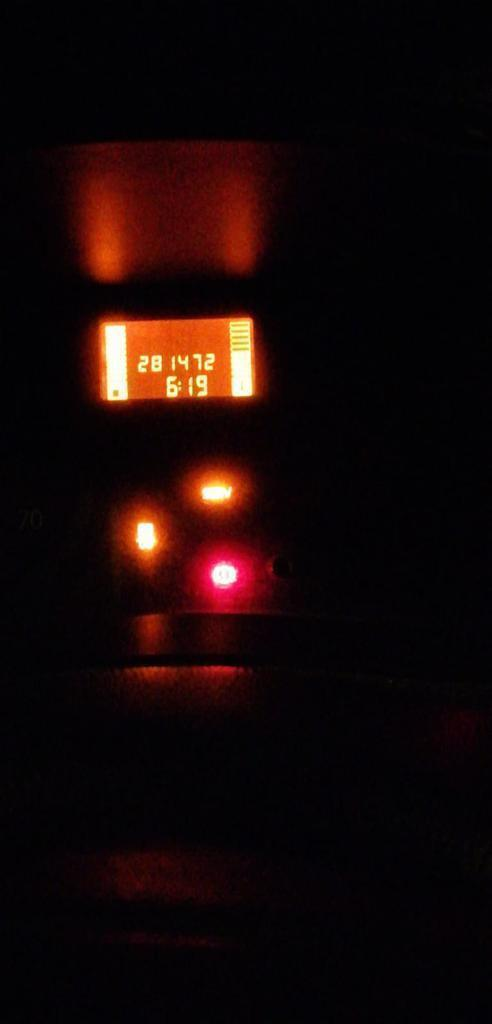1: (186, 375, 194, 397), (168, 354, 176, 371)
2: (203, 352, 215, 371), (137, 354, 149, 372)
4: (176, 354, 189, 370)
6: (163, 374, 177, 398)
7: (191, 352, 203, 370)
8: (150, 353, 163, 372)
9: (193, 373, 208, 397)
X: (177, 379, 182, 392)
odometer: (93, 313, 258, 404)
